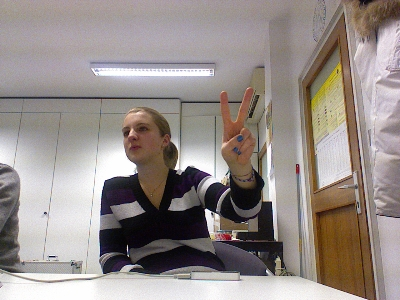剪刀: (219, 86, 255, 168)
